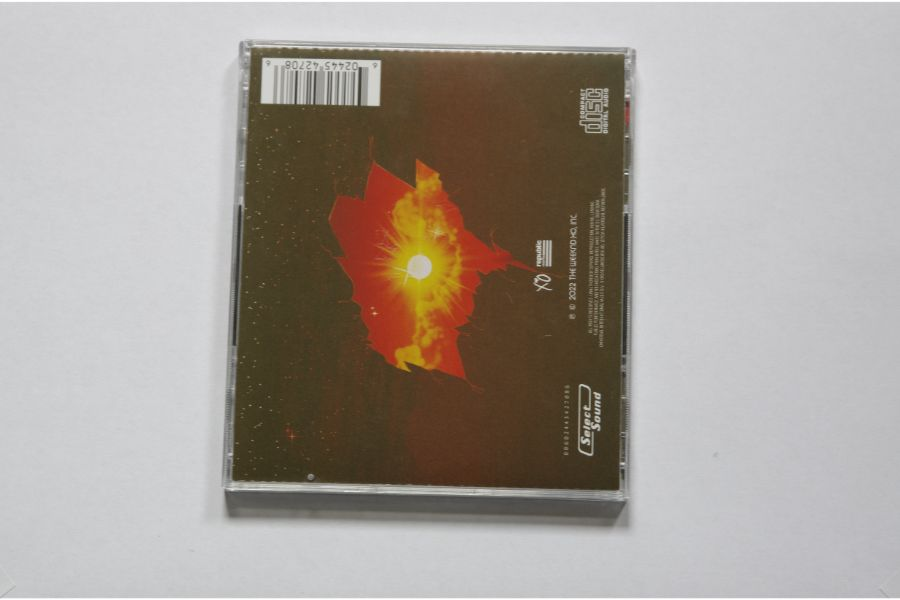album: (222, 36, 636, 506)
